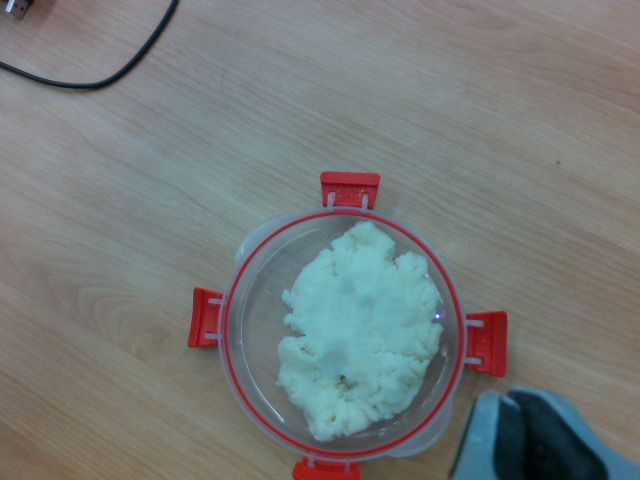mashed_potato: (279, 220, 441, 440)
